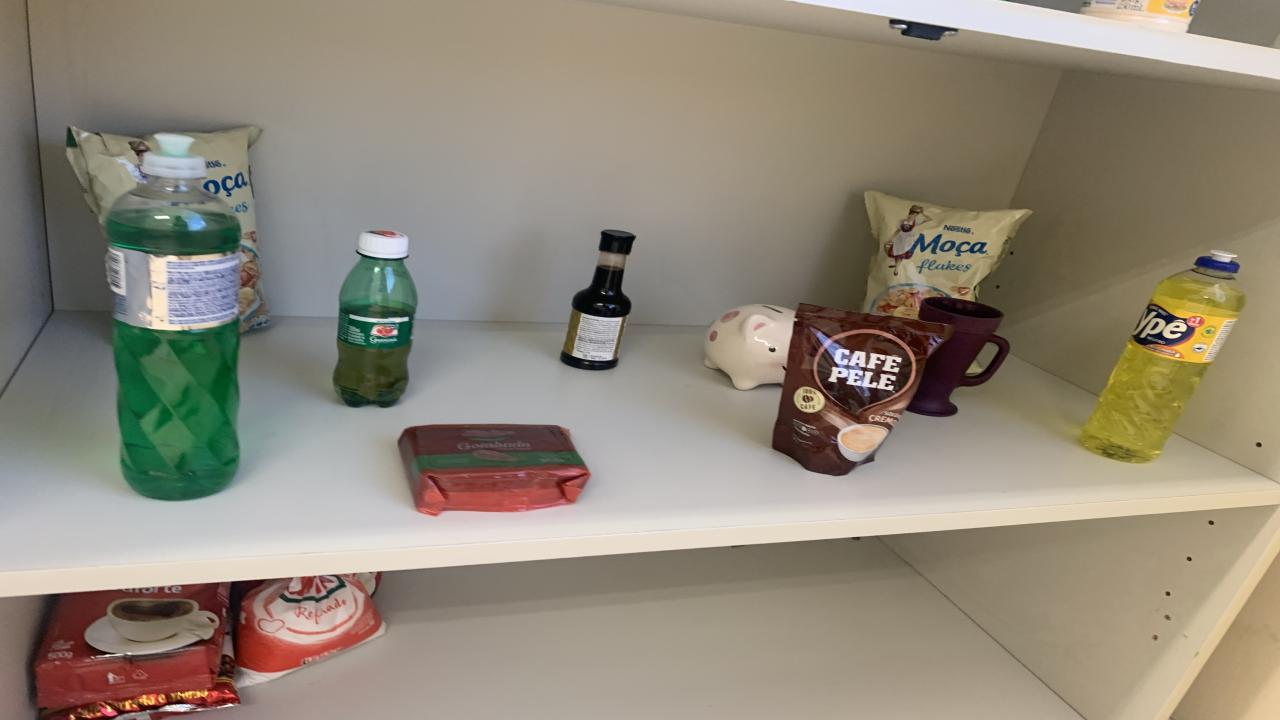Coffee-Pantry_Items: (772, 304, 952, 474)
Detergent-Cleanup_Items: (105, 133, 242, 501), (1080, 249, 1245, 463)
English_Sauce-Pantry_Items: (560, 231, 635, 369)
Flakes-Snacks: (862, 191, 1032, 319), (185, 126, 270, 332), (65, 128, 158, 225)
Guarana-Drinks: (332, 231, 418, 407)
Guava-Snacks: (398, 424, 590, 516)
Mayonnaise-Pantry_Items: (1080, 0, 1200, 32)
Pig_Safe-Miscellaneous: (705, 304, 795, 390)
